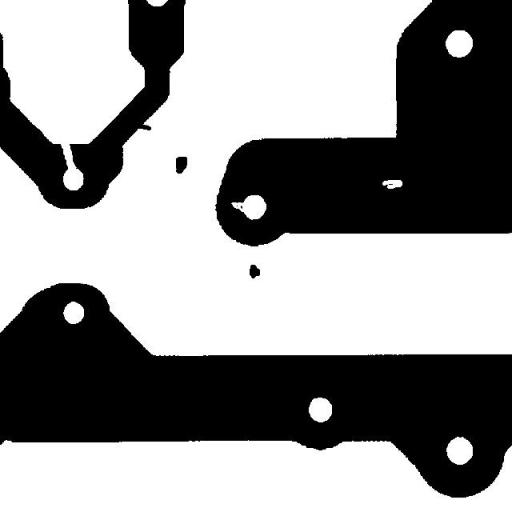copper: (168, 149, 194, 181), (242, 256, 267, 286)
mousebite: (223, 194, 255, 220)
open: (53, 131, 84, 180)
pin-hole: (374, 172, 410, 196)
spur: (124, 115, 158, 138)
